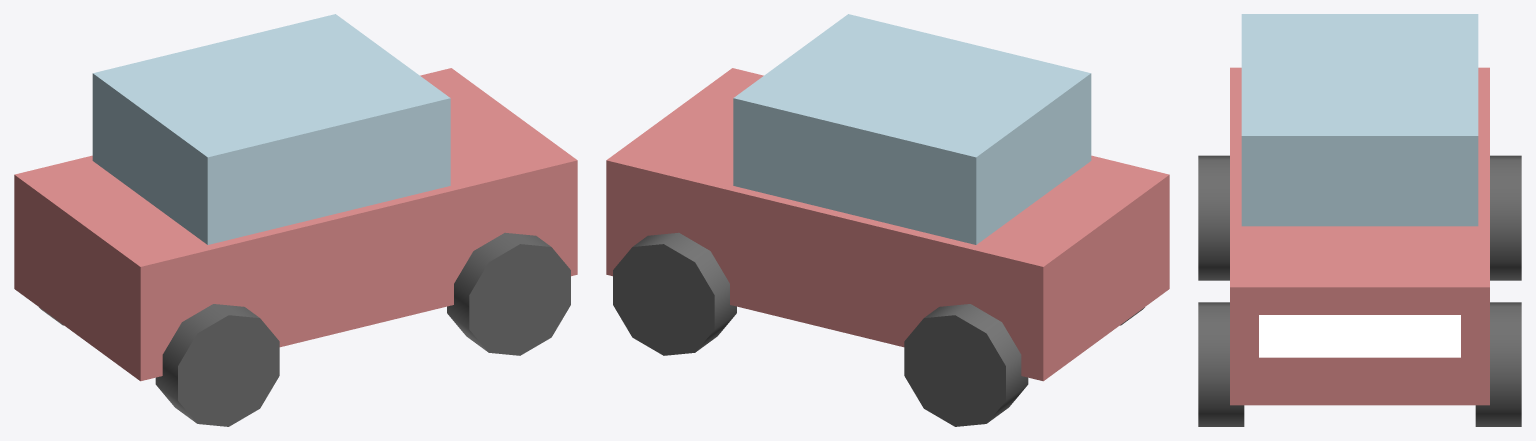
Rendered from car.glb.
3 renders of one model, left to right at view 1: azimuth 30°, elevation 25°; view 2: azimuth 150°, elevation 25°; view 3: azimuth 270°, elevation 25°, orthographic. The views are drawn at different scales.
Visible parts, largest first — view 1: car; view 2: car; view 3: car.
Part boxes in pixels (x1=…): car: x1=14, y1=14, x2=577, y2=426; car: x1=606, y1=14, x2=1169, y2=426; car: x1=1198, y1=14, x2=1521, y2=426.
Size of the model in its own units: 1.85 by 1 by 1.12.
